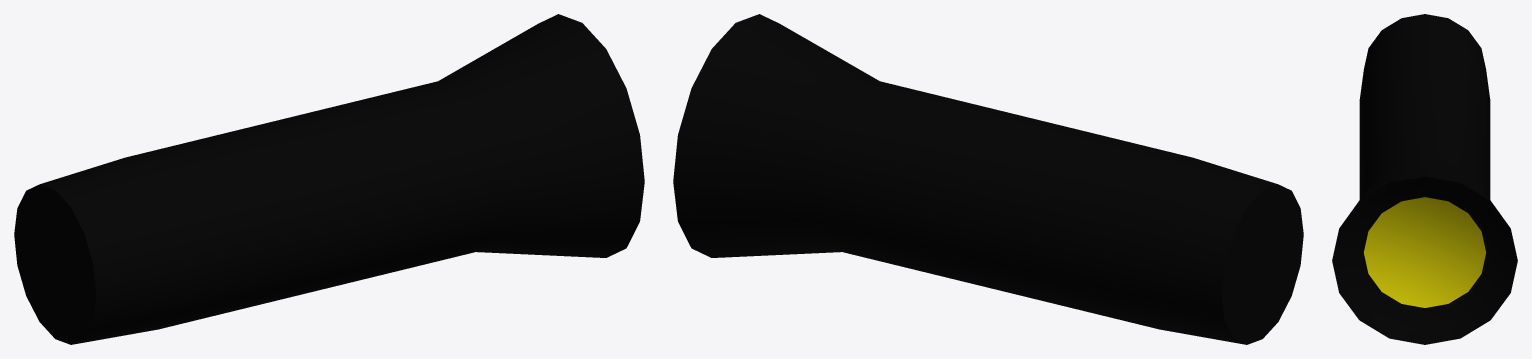
Rendered from flashlighttemp.fbx.
The picture shows the model from 3 angles, left to right: view 1: azimuth 30°, elevation 25°; view 2: azimuth 150°, elevation 25°; view 3: azimuth 270°, elevation 25°; orthographic projection. The views are drawn at different scales.
Visible parts, largest first — view 1: Cylinder; view 2: Cylinder; view 3: Cylinder.
Boxes of the visible parts, box(x1,y1,x2,y2) form: Cylinder: box(14, 14, 644, 344); Cylinder: box(673, 14, 1303, 344); Cylinder: box(1332, 14, 1517, 344).
Size of the model in its own units: 227 by 93.21 by 93.21.
